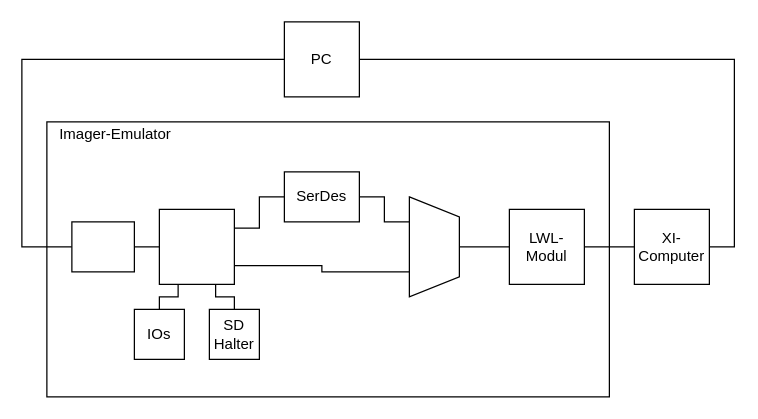
This 758x419 diagram has some shape labels left out. The centre of each missing label's shape, as x and y in pixels:
"Mux" belongs at point 433,246.
"USB Buchse" belongs at point 102,246.
"XU5" belongs at point 196,246.
